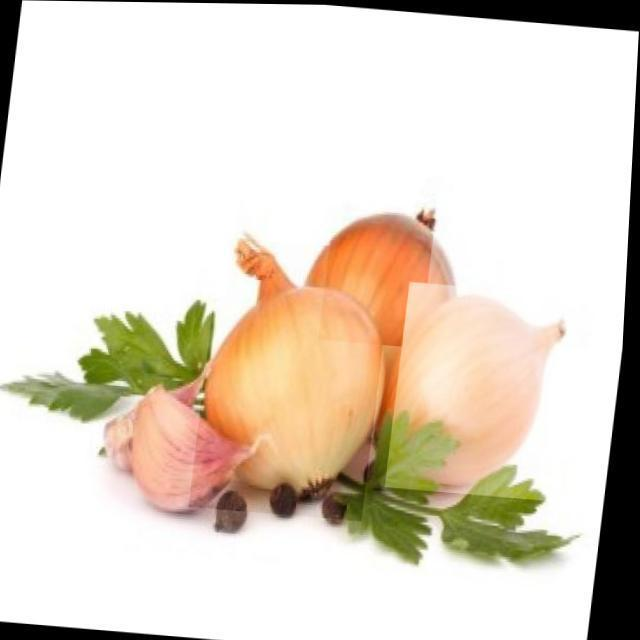Onion: (194, 236, 397, 520), (389, 280, 582, 500), (321, 169, 442, 347)
